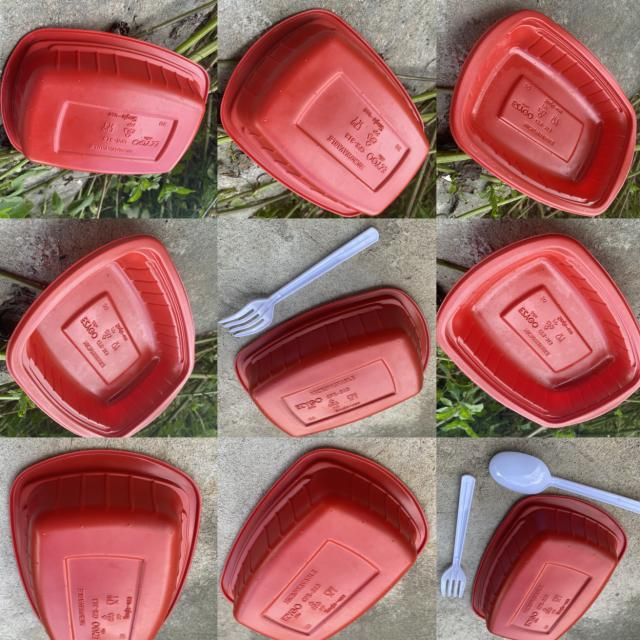plastik: (220, 10, 430, 216), (220, 449, 428, 640), (437, 234, 640, 428), (450, 10, 636, 216), (6, 236, 195, 437), (10, 450, 201, 640), (1, 28, 209, 174), (235, 289, 430, 437), (472, 495, 627, 640), (218, 227, 380, 337), (489, 452, 640, 514), (441, 475, 476, 597)
